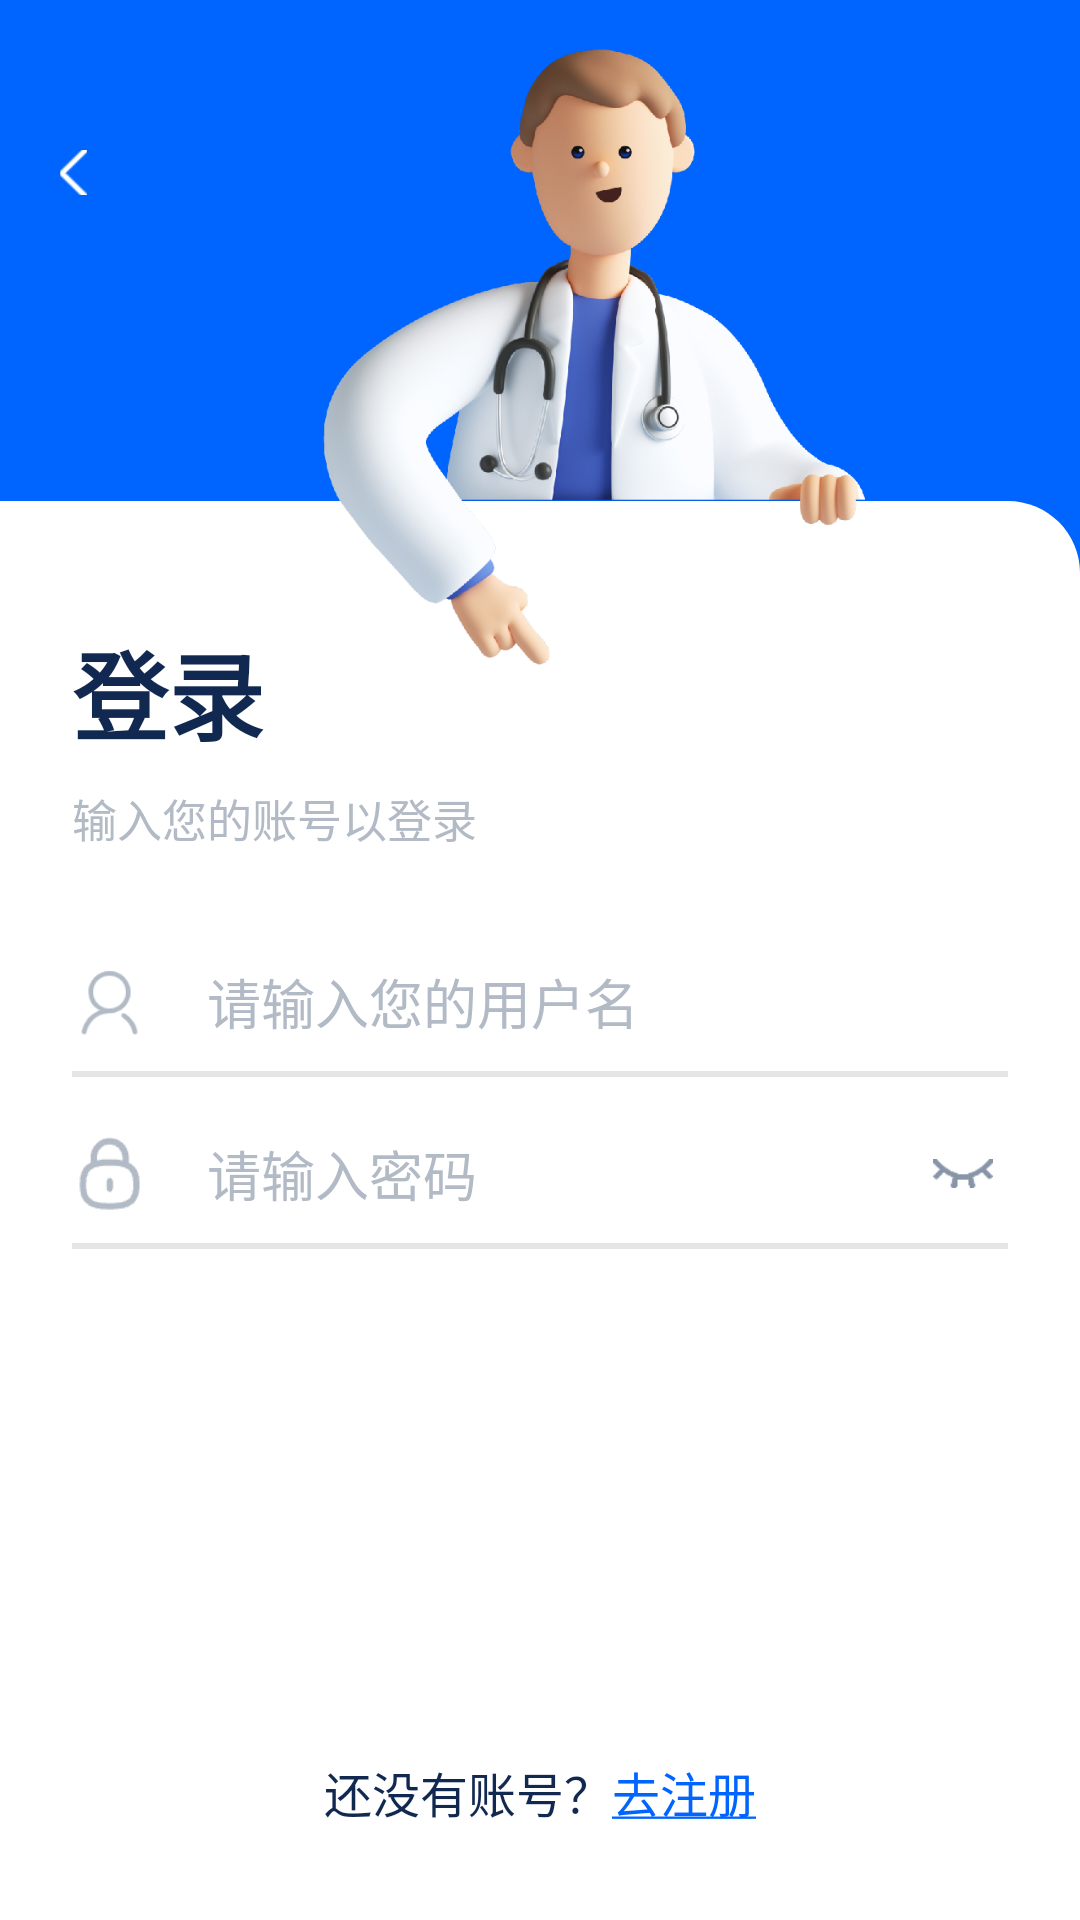

Screen size 1080*1920. Icon name, then its center in pixels as [x,y]:
login account: [109,1002]
login pwd: [109,1174]
return: [73,172]
sel pwd open close: [963,1173]
